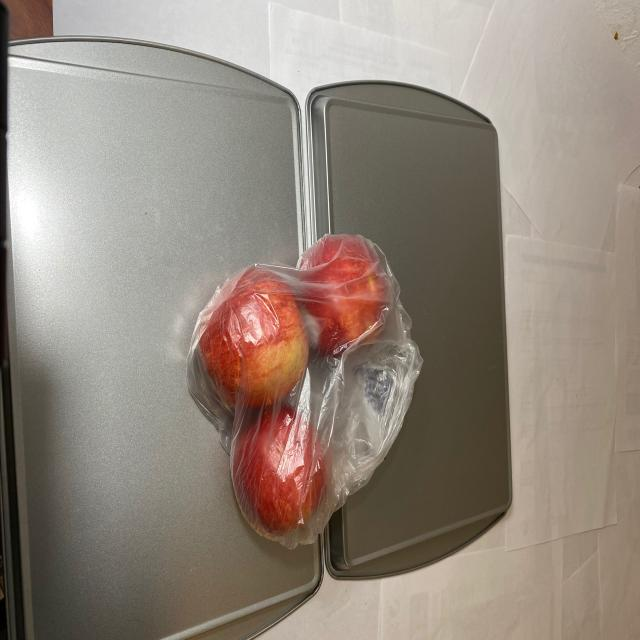apple: (196, 226, 402, 543)
